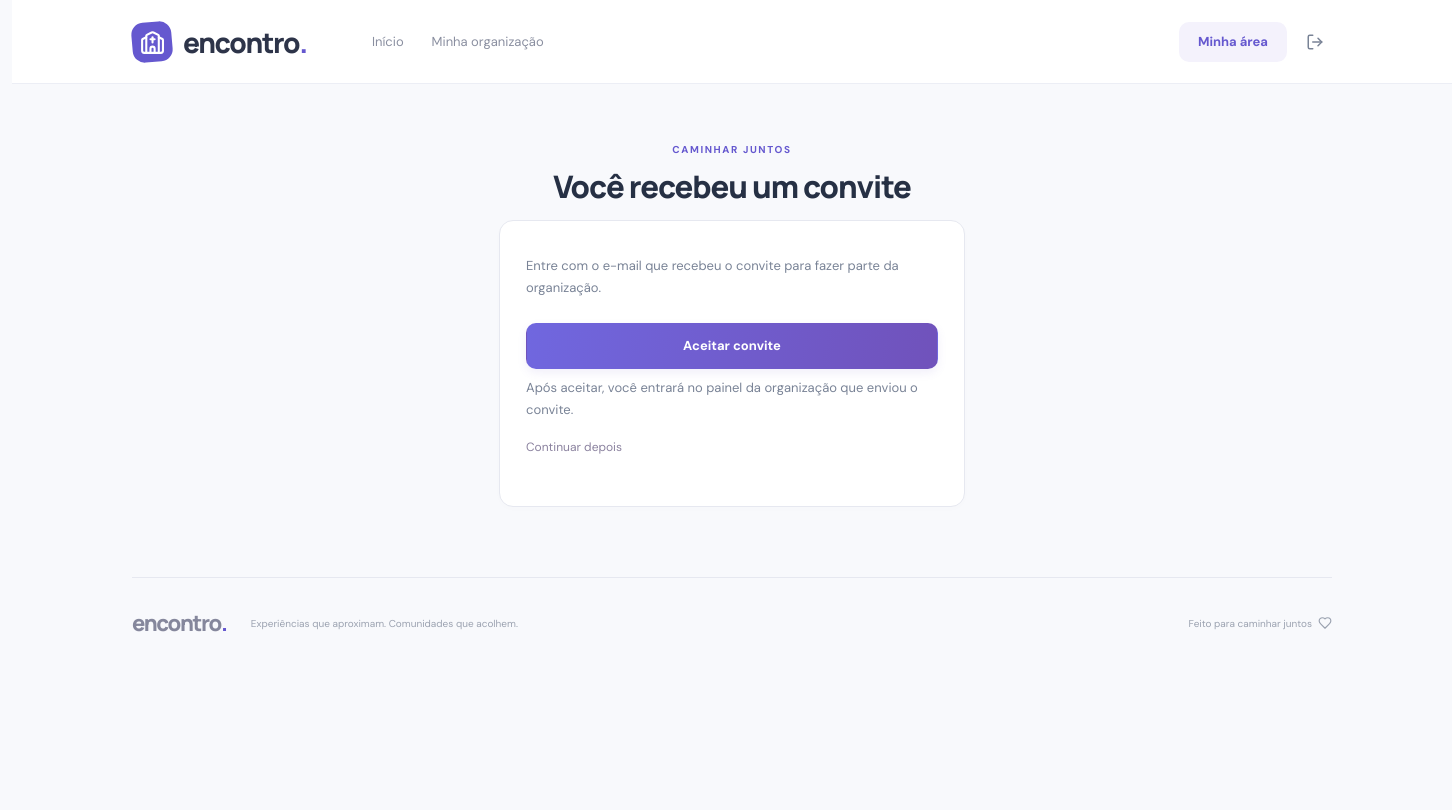
Test: Entrada de organizadores › abre a organização que enviou o convite mesmo quando já existe outro vínculo
Click the button "Aceitar convite": (732, 346) 526,323 -> 938,369
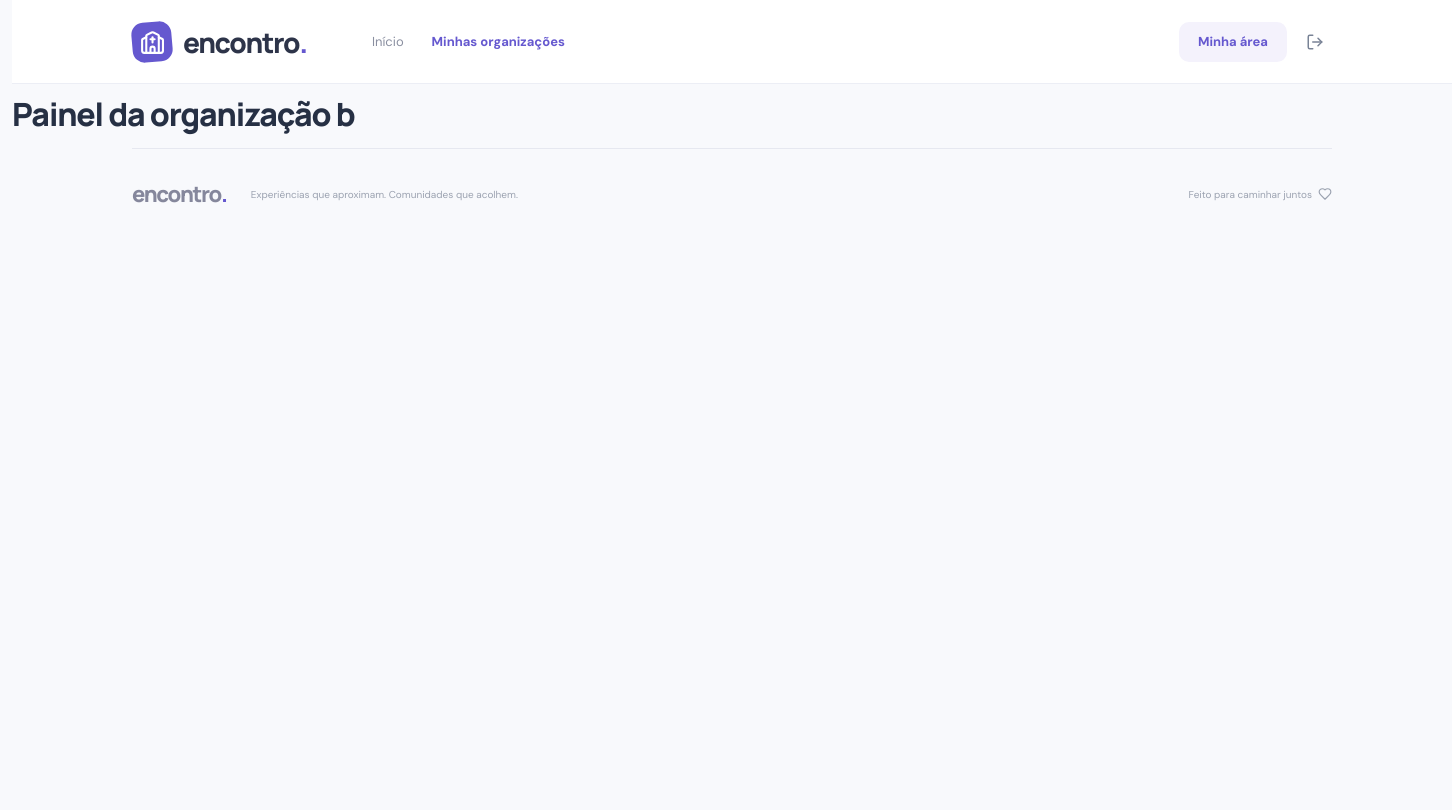
Check: the heading "Painel da organização b" is shown, box 12,92 -> 355,136
